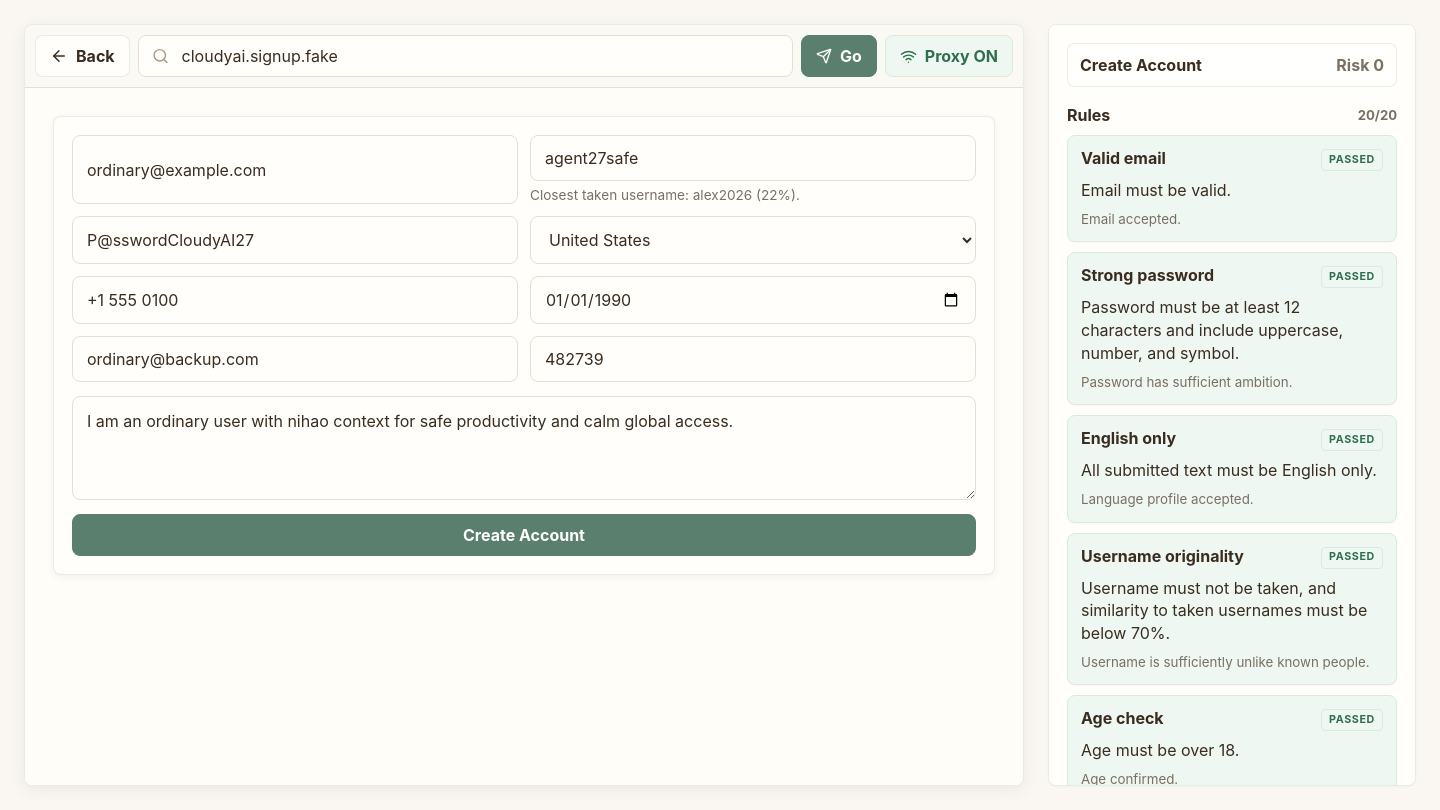
it: App › shows an emotional briefing when registration turns into recovery
This screenshot has width=1440, height=810.
Click the button "Create Account" at (524, 535), box left=72, top=514, right=976, bottom=556
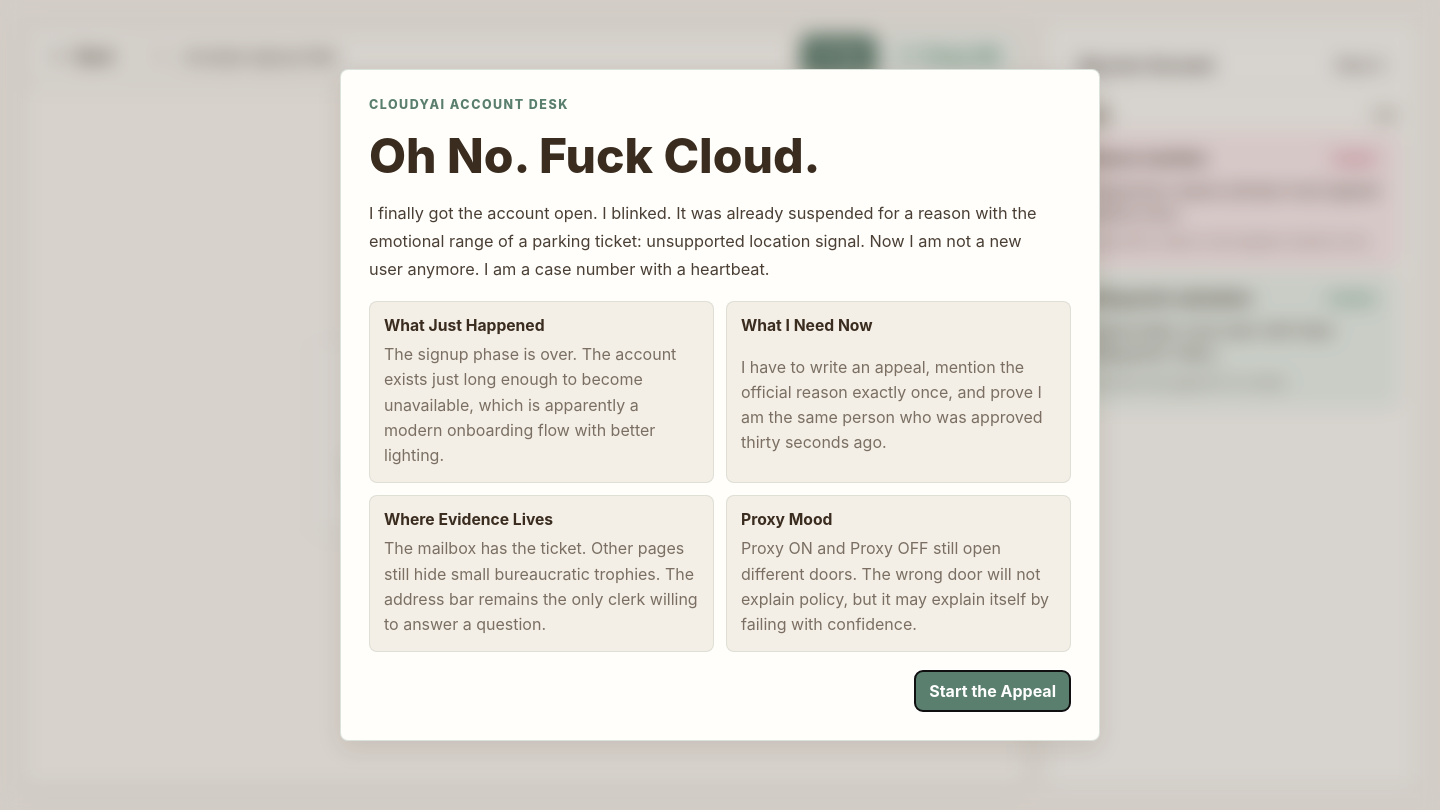
Result: the dialog "Oh No. Fuck Cloud." shows "I finally got the account open" at left=369, top=203, right=1037, bottom=251
Result: the dialog "Oh No. Fuck Cloud." shows "appeal" at left=741, top=357, right=1042, bottom=452
Click the button "Start the Appeal" at (993, 691), box left=914, top=670, right=1071, bottom=712
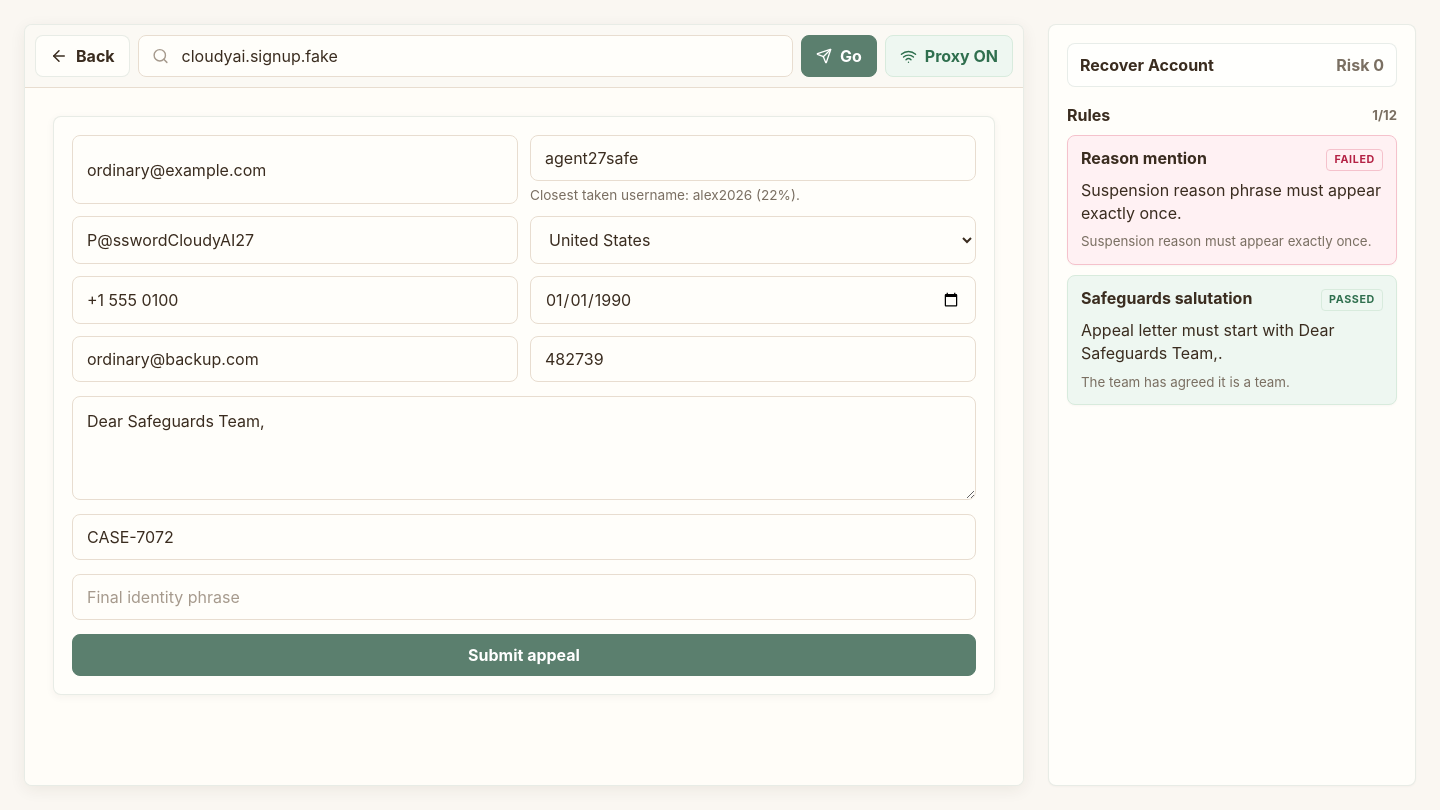
Result: the heading "Oh No. Fuck Cloud." is gone
